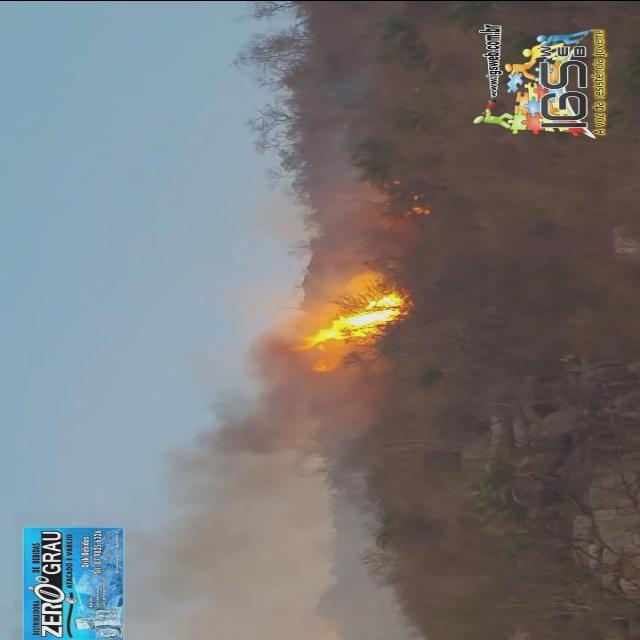Fire: (300, 284, 404, 367), (412, 205, 430, 218)
